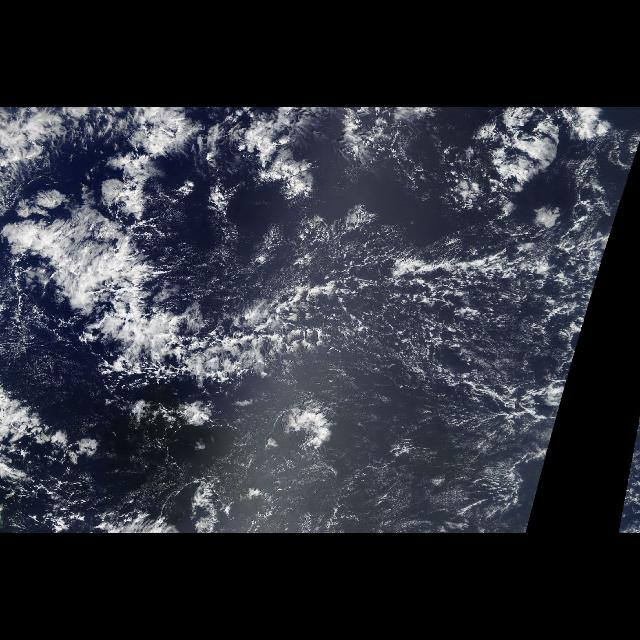Fish: (10, 192, 608, 392)
Flower: (256, 238, 600, 406), (9, 108, 604, 204)
Gravel: (296, 202, 622, 408)
Sugar: (260, 311, 568, 517)
